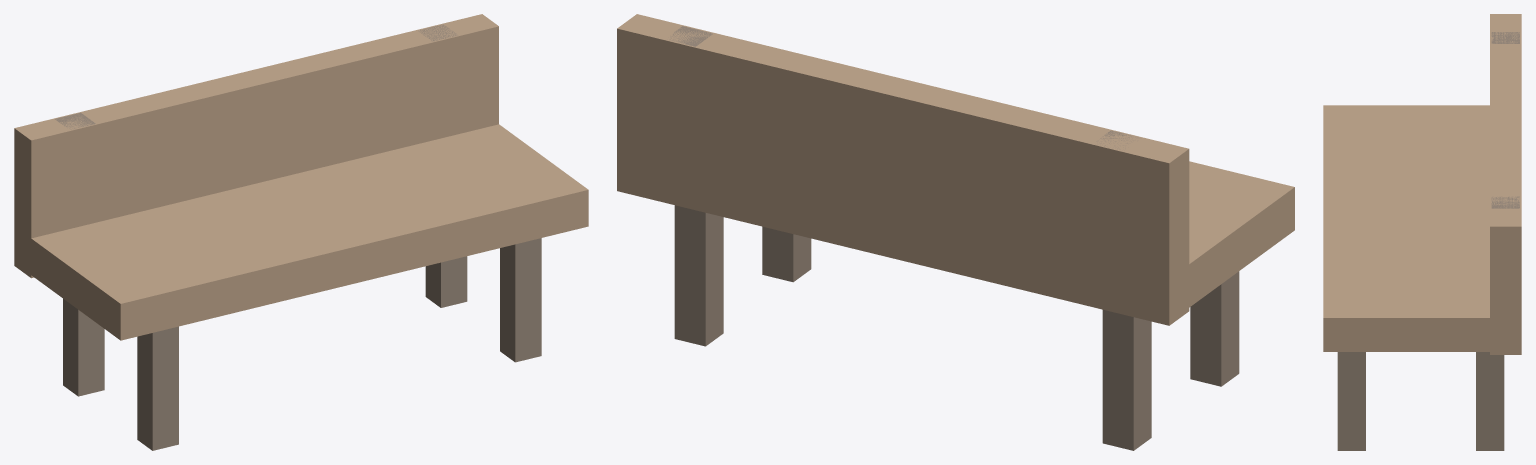
File: bench-wood.glb
The picture shows the model from 3 angles, left to right: view 1: azimuth 30°, elevation 25°; view 2: azimuth 150°, elevation 25°; view 3: azimuth 270°, elevation 25°; orthographic projection. The views are drawn at different scales.
Parts seen in each view (by area): view 1: Development shape 1, Development shape 2, Development shape 6, Development shape 5, Development shape 3, Development shape 4; view 2: Development shape 2, Development shape 1, Development shape 3, Development shape 4, Development shape 5, Development shape 6; view 3: Development shape 1, Development shape 2, Development shape 6, Development shape 4, Development shape 8, Development shape 7.
Boxes of the visible parts, x1=… form: Development shape 1: x1=16, y1=124, x2=588, y2=340; Development shape 2: x1=14, y1=14, x2=498, y2=278; Development shape 6: x1=500, y1=238, x2=541, y2=362; Development shape 5: x1=137, y1=326, x2=178, y2=450; Development shape 3: x1=63, y1=298, x2=104, y2=396; Development shape 4: x1=425, y1=256, x2=467, y2=307; Development shape 2: x1=617, y1=14, x2=1189, y2=325; Development shape 1: x1=1178, y1=161, x2=1294, y2=313; Development shape 3: x1=1102, y1=309, x2=1151, y2=450; Development shape 4: x1=674, y1=205, x2=723, y2=346; Development shape 5: x1=1190, y1=271, x2=1239, y2=386; Development shape 6: x1=762, y1=226, x2=811, y2=282; Development shape 1: x1=1323, y1=105, x2=1518, y2=351; Development shape 2: x1=1490, y1=14, x2=1521, y2=354; Development shape 6: x1=1337, y1=352, x2=1365, y2=450; Development shape 4: x1=1476, y1=352, x2=1504, y2=450; Development shape 8: x1=1491, y1=196, x2=1519, y2=208; Development shape 7: x1=1491, y1=32, x2=1519, y2=43.
Size of the model in its own units: 1.6 by 0.85 by 0.63.
